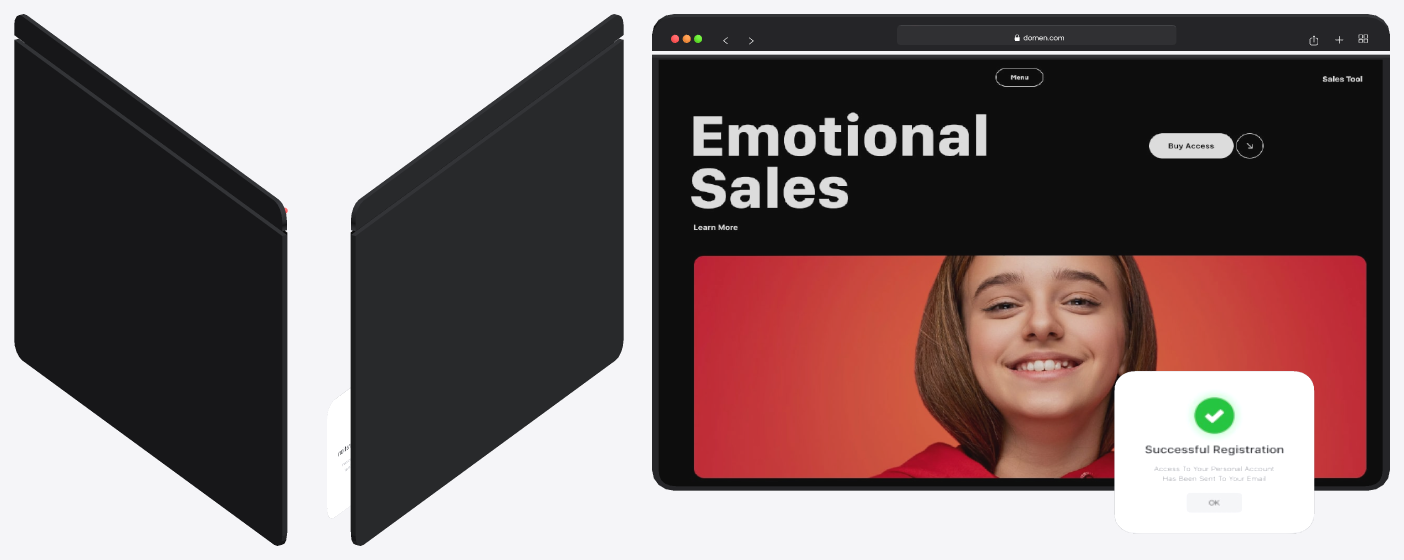
File: Web_Development.glb
3 views of the same model, side by side, from view 1: azimuth 30°, elevation 25°; view 2: azimuth 150°, elevation 25°; view 3: azimuth 270°, elevation 25° (orthographic). The views are drawn at different scales.
Parts seen in each view (by area): view 1: body_low.002, bar_low, screen_low; view 2: body_low.002, bar_low, pop_up_low, screen_low; view 3: screen_low, pop_up_low, bar_low, body_low.002, url_low.
Boxes of the visible parts, x1,y1,x2,y2 form: body_low.002: (14,38,286,545); bar_low: (14,14,286,231); screen_low: (25,43,287,532); body_low.002: (351,38,623,545); bar_low: (351,14,623,231); pop_up_low: (327,388,350,518); screen_low: (350,42,613,531); screen_low: (658,59,1382,486); pop_up_low: (1114,371,1314,533); bar_low: (652,14,1389,50); body_low.002: (652,54,1389,490); url_low: (897,25,1176,44).
Size of the model in its own units: 0.1012 by 0.6224 by 0.8415.
2 materials, 2 textured.
